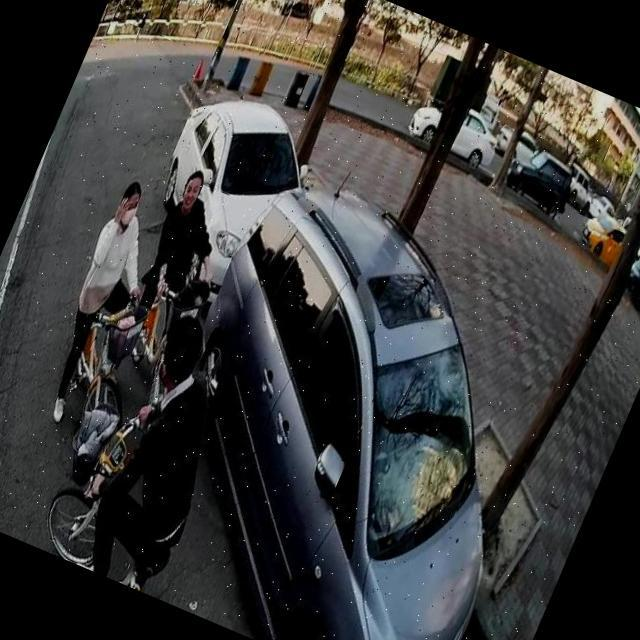person: (59, 298, 267, 598), (22, 166, 190, 438), (126, 156, 256, 328)
